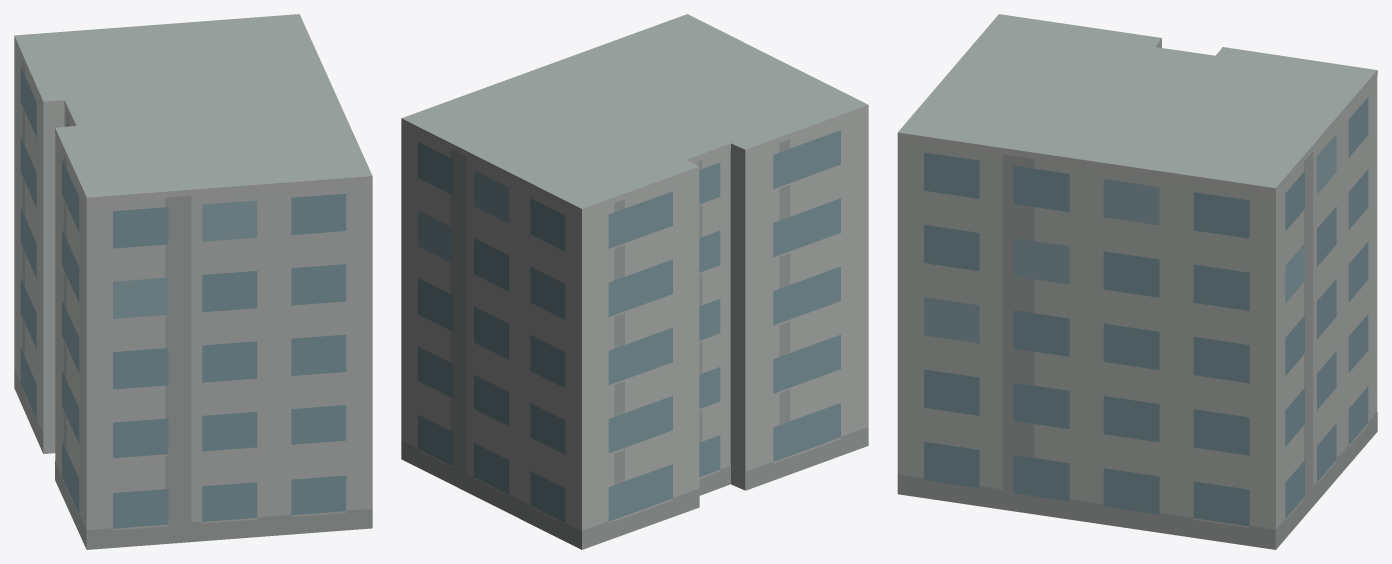
Rendered from survey-upis-32885123.glb.
3 renders of one model, left to right at view 1: azimuth 30°, elevation 25°; view 2: azimuth 150°, elevation 25°; view 3: azimuth 270°, elevation 25°, orthographic. The views are drawn at different scales.
Visible parts, largest first — view 1: survey-upis-32885123.tmp; view 2: survey-upis-32885123.tmp; view 3: survey-upis-32885123.tmp.
Part boxes in pixels (<box>): survey-upis-32885123.tmp: <box>14,14,372,549</box>; survey-upis-32885123.tmp: <box>401,14,868,549</box>; survey-upis-32885123.tmp: <box>897,14,1377,549</box>.
Bounding box in the file's own units: 14.83 × 14.35 × 17.26.
